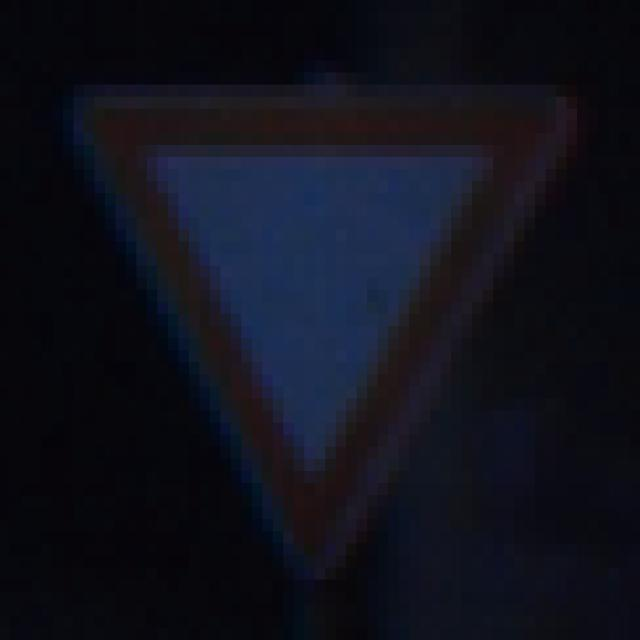Give Way: (54, 62, 589, 581)
